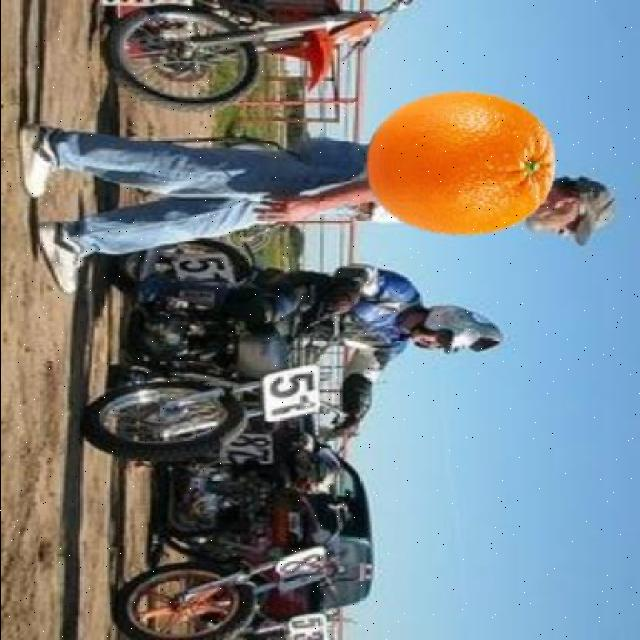Orange: (366, 90, 557, 236)
